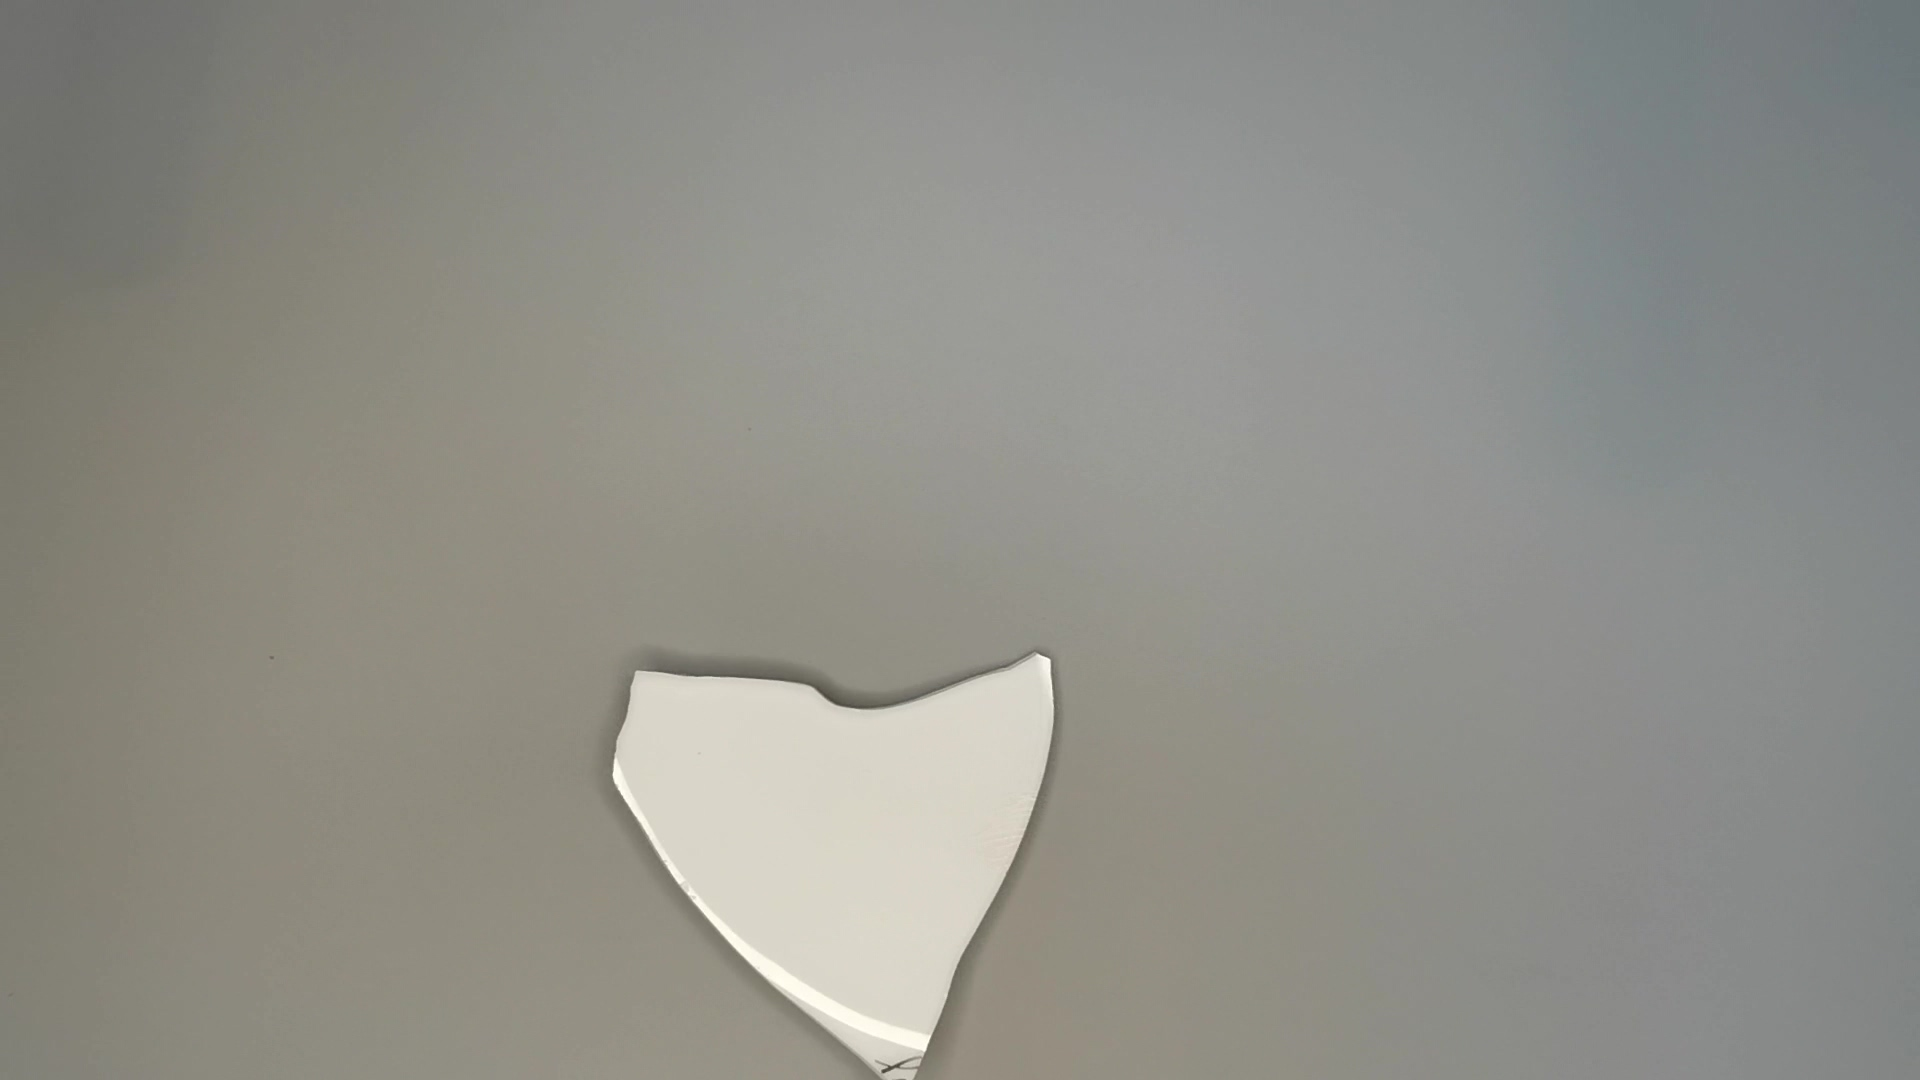ceramic: (599, 645, 1077, 1080)
